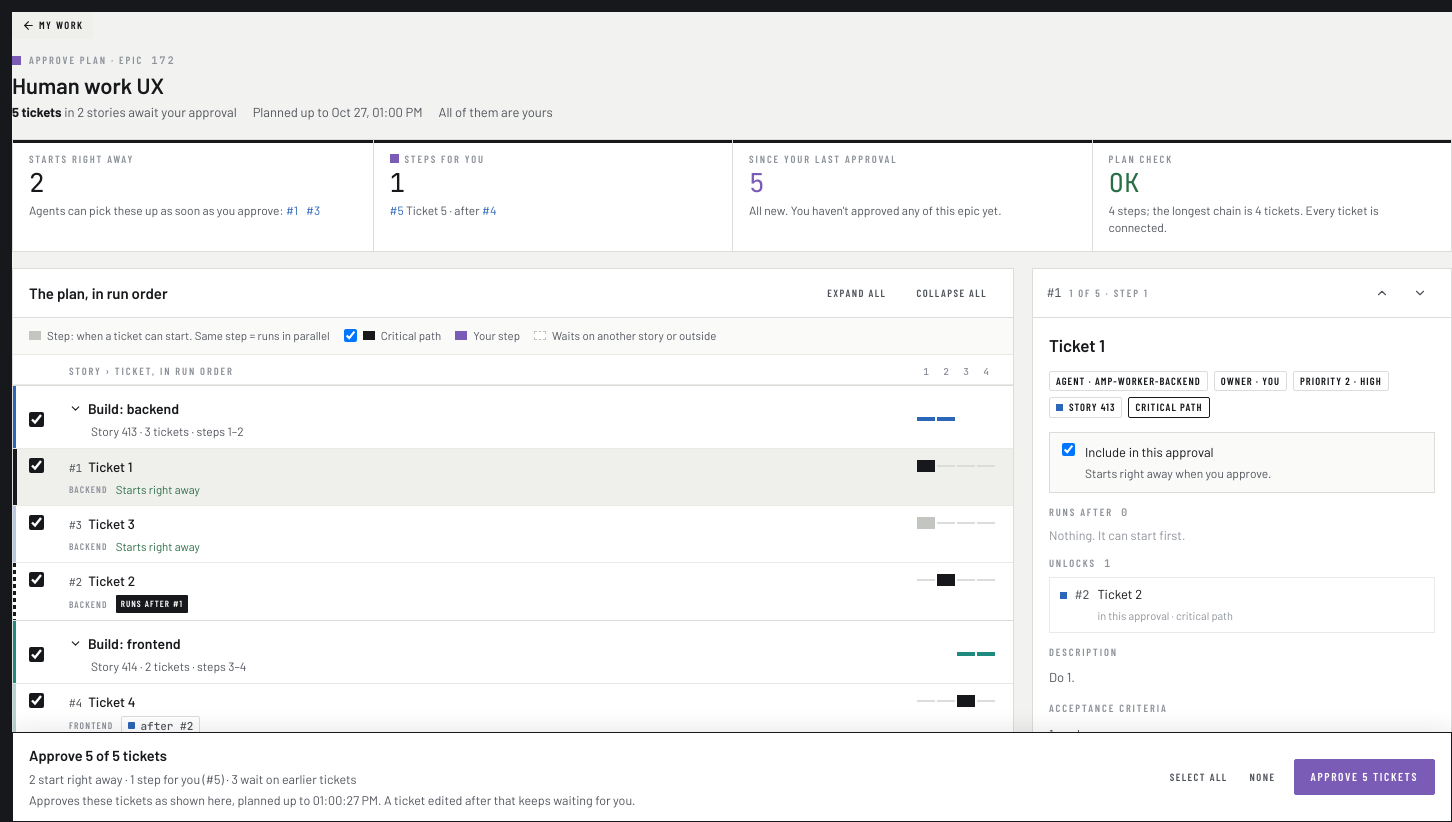
it: ApproveView › story checkboxes tick the whole story and go mixed
Click the checkbox named "Approve #1" at coordinates (36, 465), box [29, 458, 44, 472]
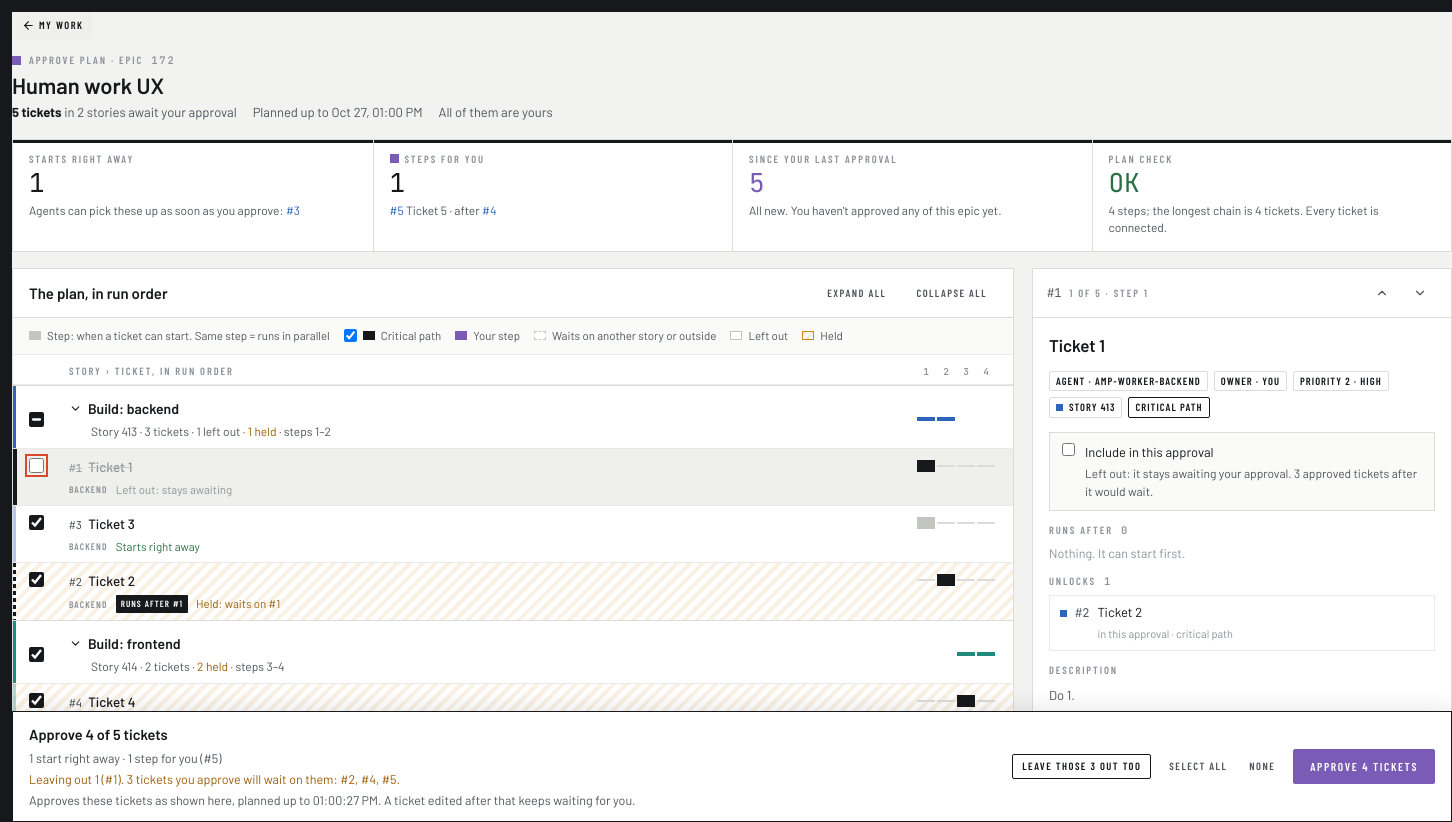
Expected: the checkbox named "Approve all of story 413" has attribute aria-checked="mixed"
Click the checkbox named "Approve all of story 413" at coordinates (36, 420), box [29, 412, 44, 427]
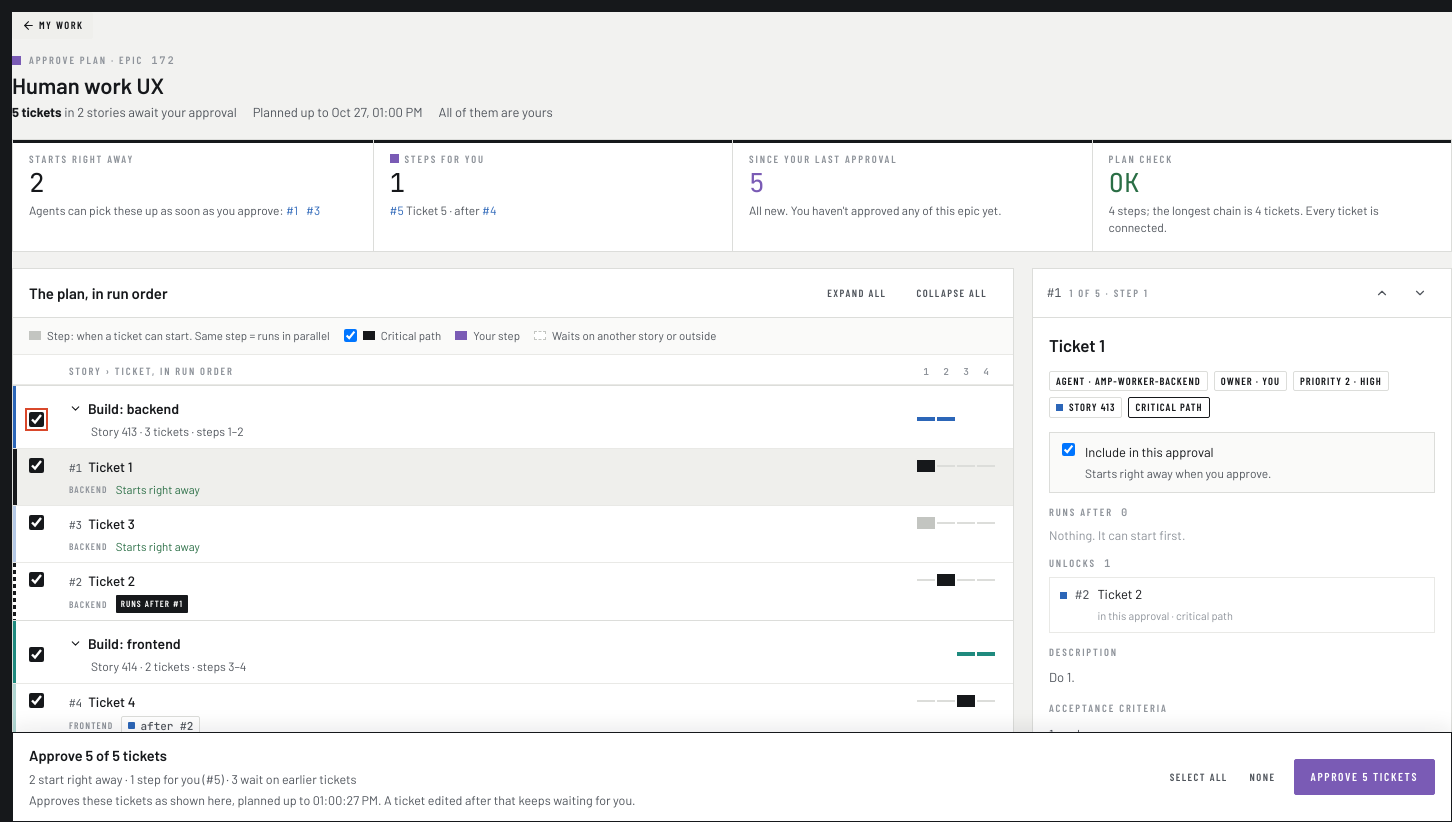
Expected: the checkbox named "Approve #1" is checked, [29, 458, 44, 472]
Click the checkbox named "Approve all of story 413" at coordinates (36, 420), box [29, 412, 44, 427]
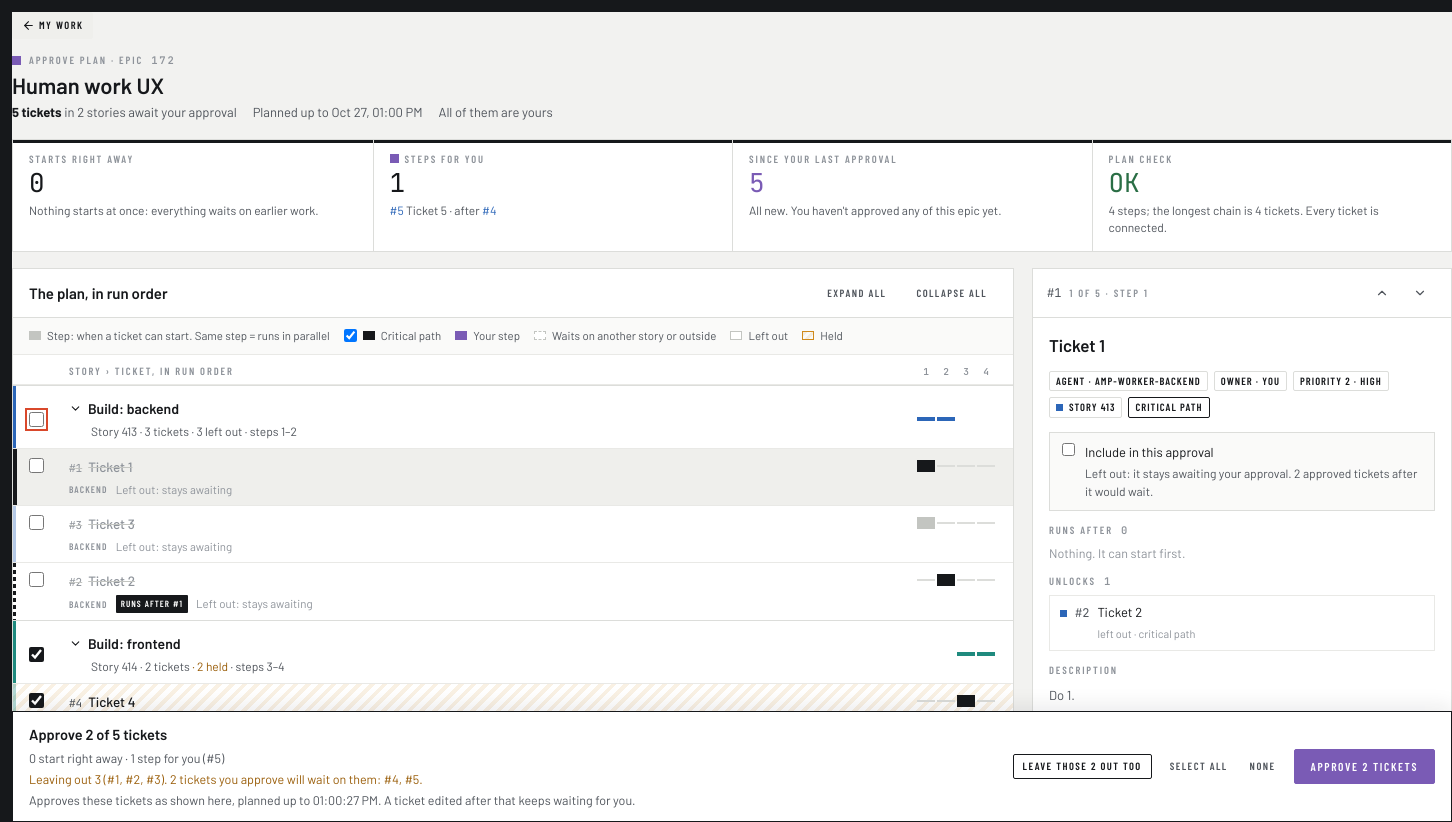
Expected: the text "Approve 2 of 5 tickets" is shown, [29, 725, 167, 743]
